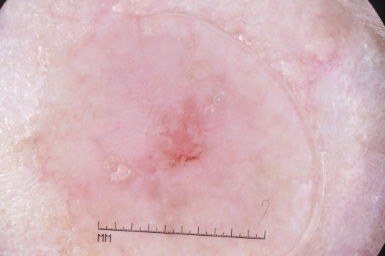seborrheic keratosis: (124, 80, 236, 195)
